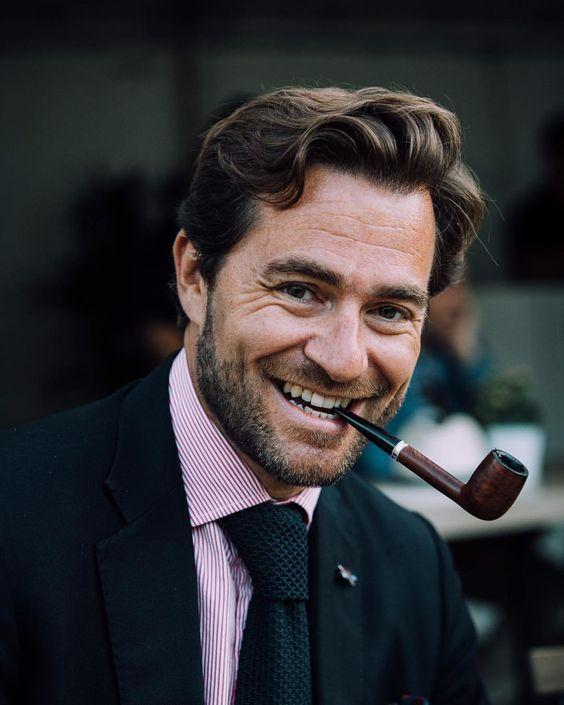trubka: (332, 406, 528, 520)
